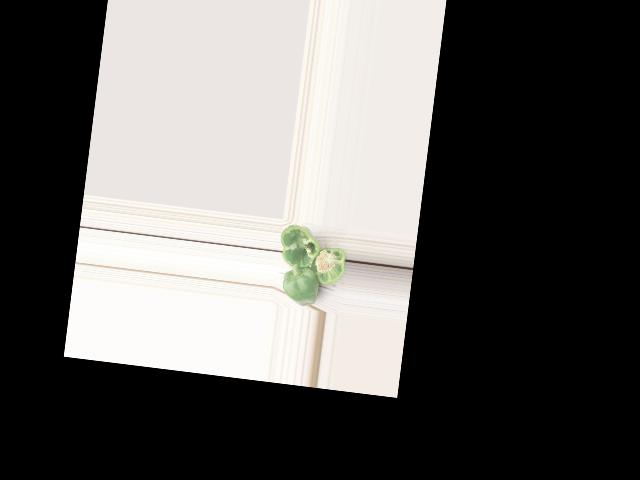bell_pepper: (309, 237, 348, 289)
